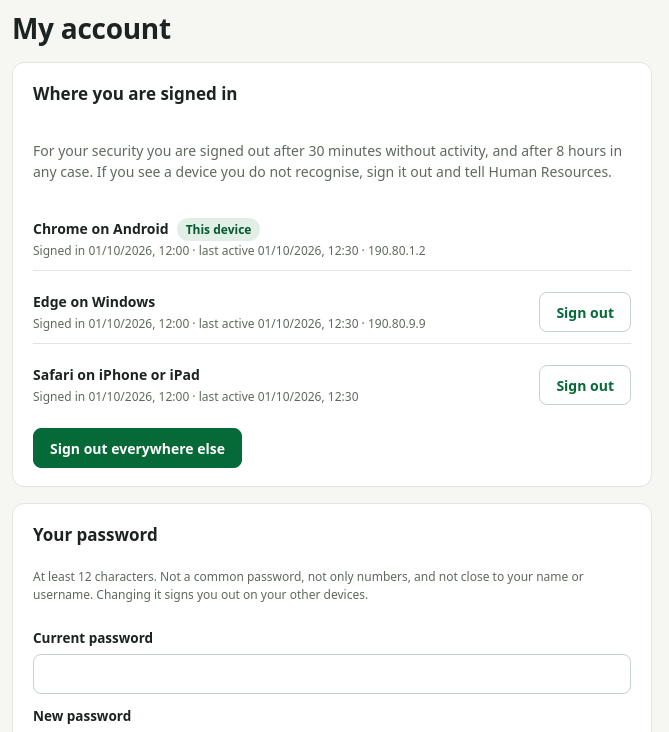
Test: my account › signs out everywhere else at once
Click the button "Sign out everywhere else" at [138, 448], box [33, 428, 242, 468]
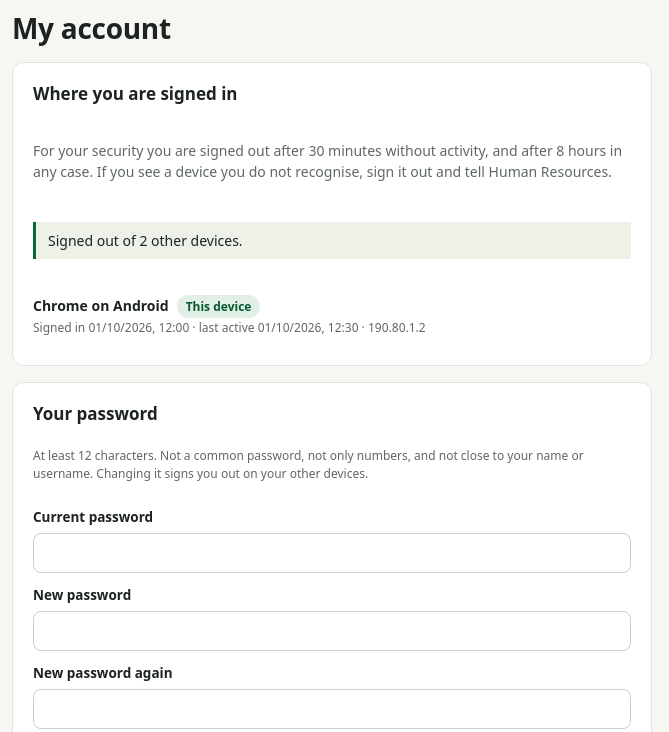
expect the message reads "Signed out of 2 other devices.": met, box [48, 231, 243, 250]
expect the button "Sign out everywhere else" is gone: met
